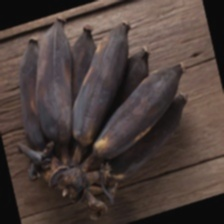banana: (8, 43, 194, 197)
